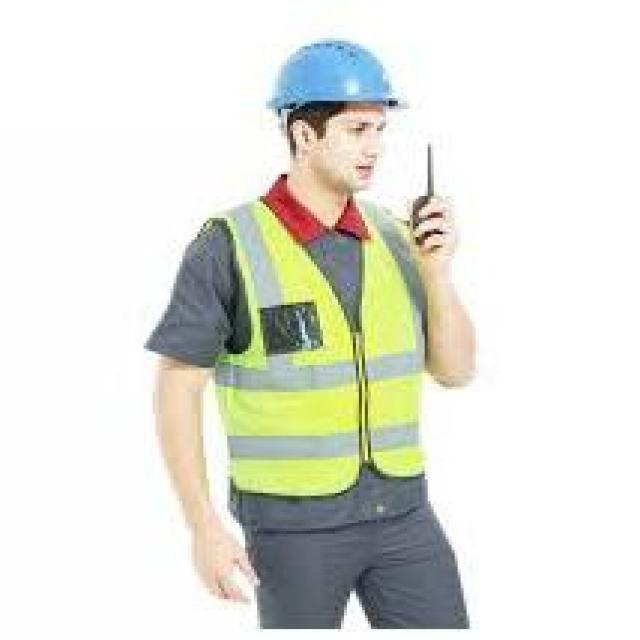Reflective-Jacket: (198, 194, 440, 498)
Safety-Helmet: (251, 33, 416, 128)
